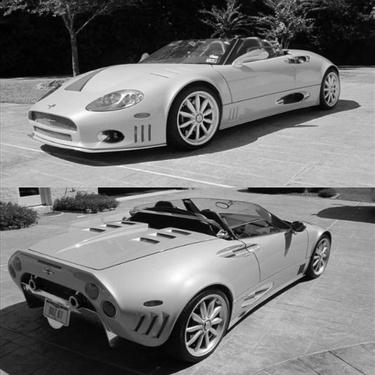car: (1, 190, 337, 367), (20, 29, 346, 158)
